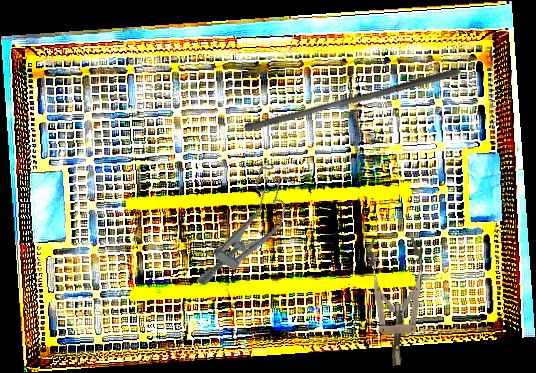Pusher: (242, 58, 463, 141)
Speculum: (188, 160, 306, 303), (365, 236, 424, 366)
